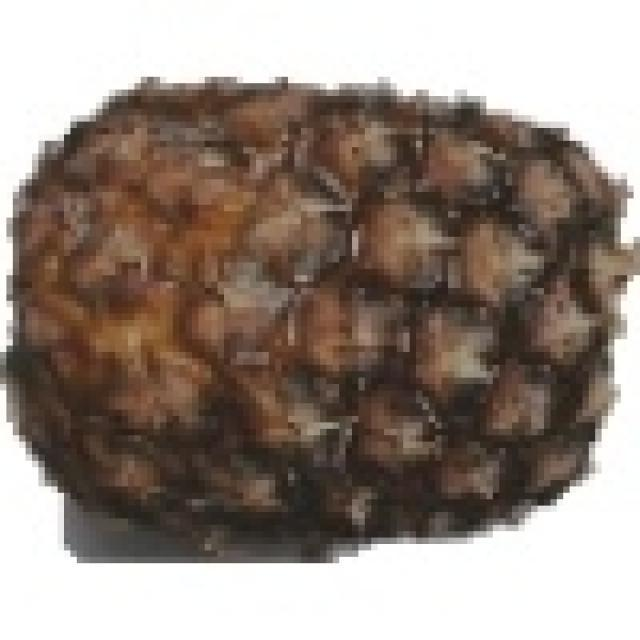pineapple: (26, 70, 634, 538)
